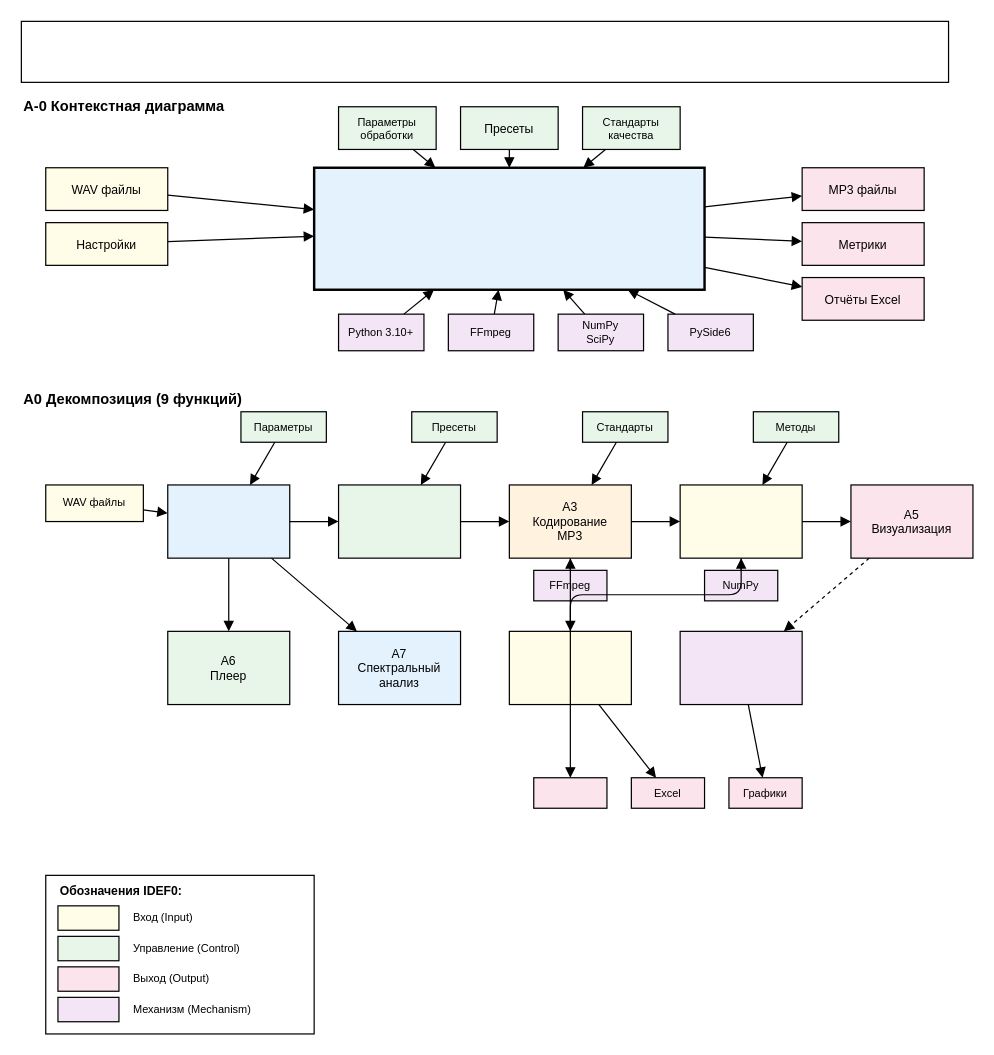
Image size: 994x1055. Some labels were removed from this diagram. The box of each missing label's shape, as (x1, y1, x2, y2) in pixels:
A0 Обработка аудио и сравнительный анализ методов кодирования v1.0: (312, 166, 705, 290)
A1 Загрузка и декодирование: (167, 484, 290, 558)
A2 Преобразования (7 методов): (337, 484, 461, 558)
A4 Расчёт метрик: (679, 484, 802, 558)
A8 Экспорт в Excel: (508, 630, 631, 705)
A9 Управление UI (5 вкладок): (679, 630, 802, 705)
MP3: (533, 777, 607, 808)
Аудио Трансформер v1.0 — Функциональная модель (IDEF0) Лист 1 из 1: (20, 20, 949, 82)
